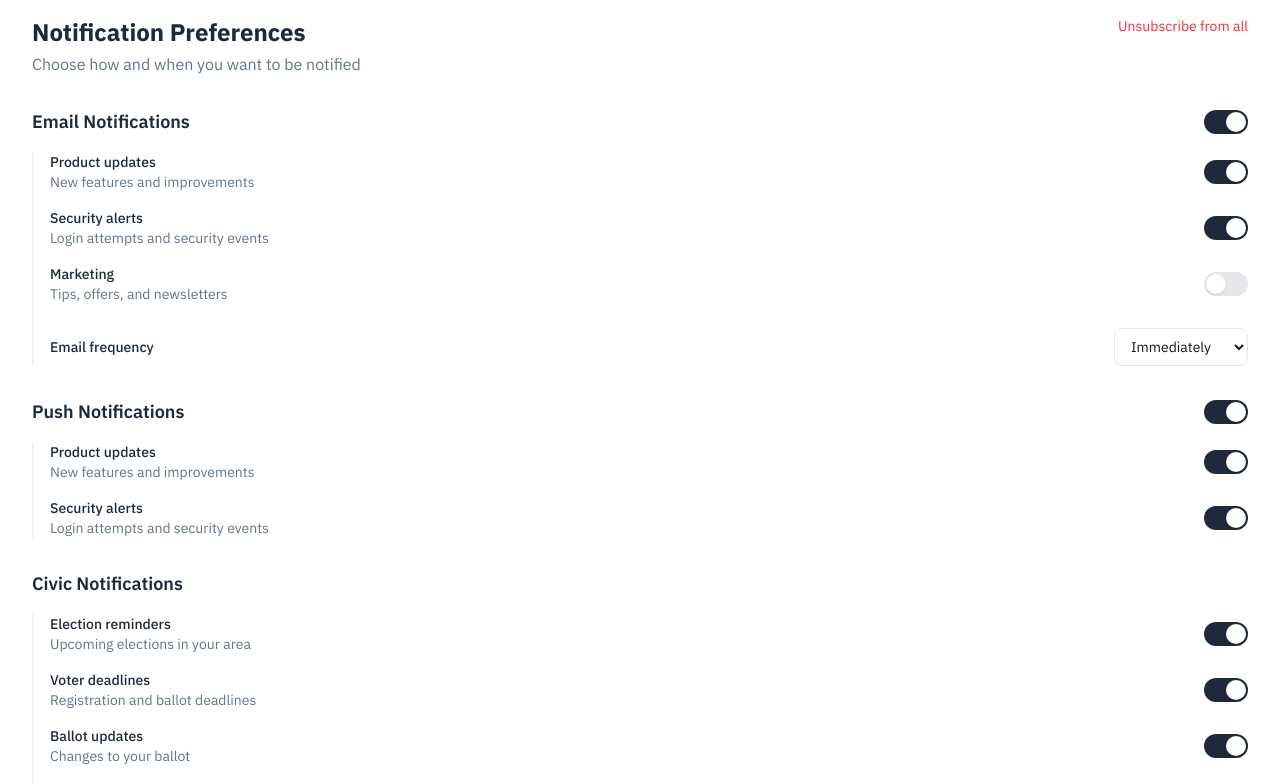
NotificationsPage › save preferences › should show success message after saving
The image size is (1280, 784).
Click the button without text in the row of "Tips, offers, and newsletters" at (1226, 284), box [1204,272,1248,296]
(page scrolled)
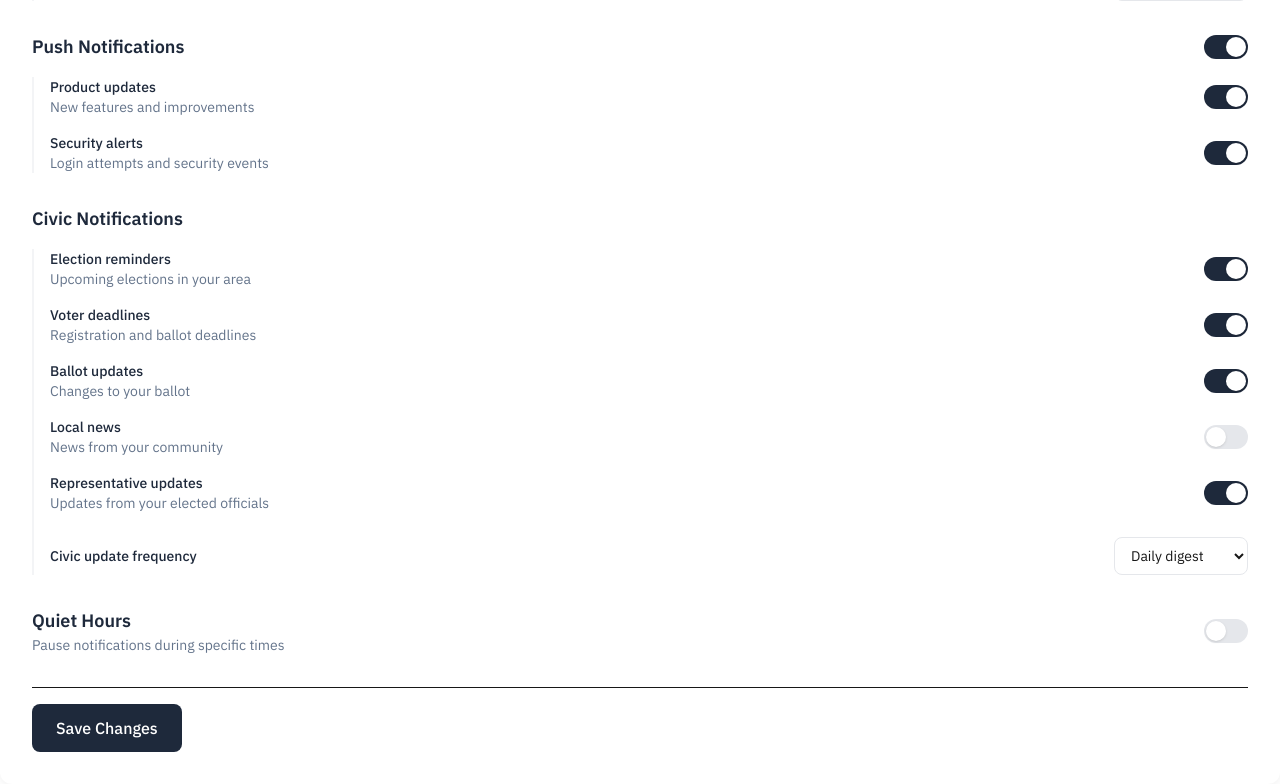
Click the button "Save Changes" at (107, 728), box [32,704,182,752]
(page scrolled)
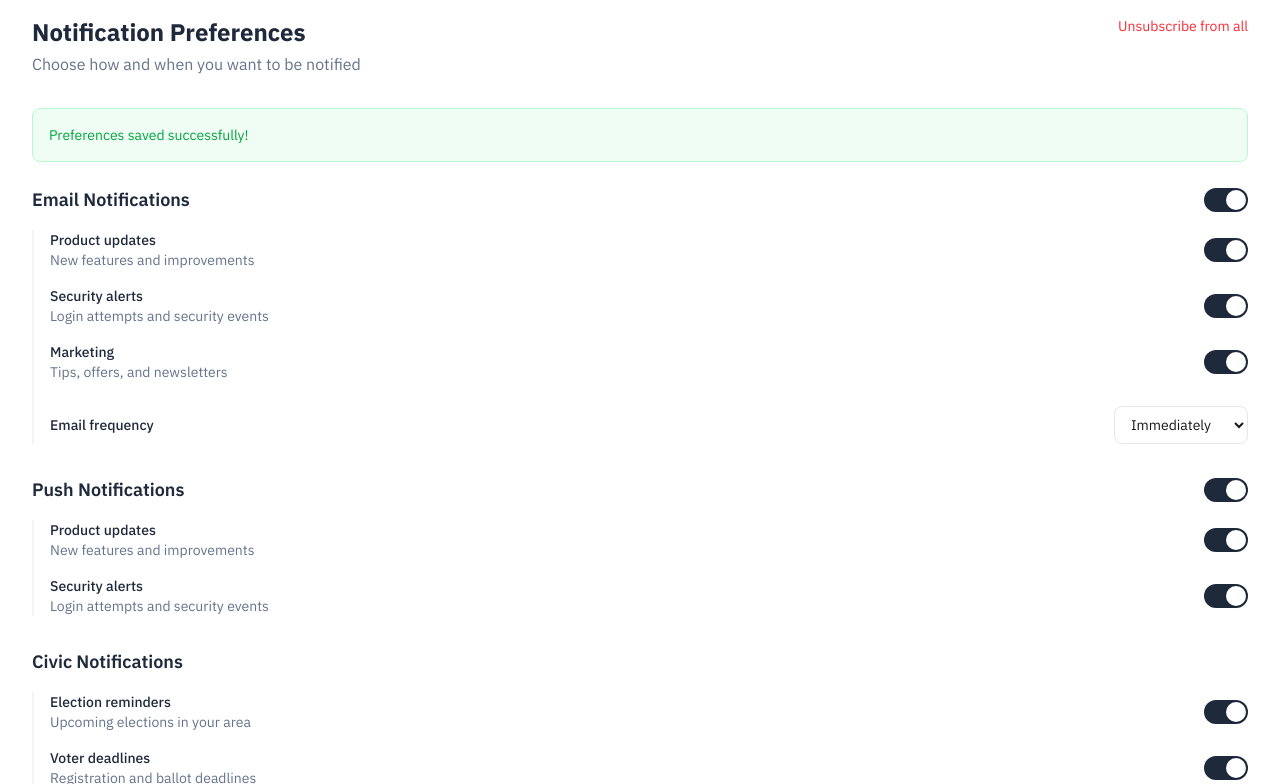
Expected: the text "Preferences saved successfully!" is shown, [49,126,248,144]
